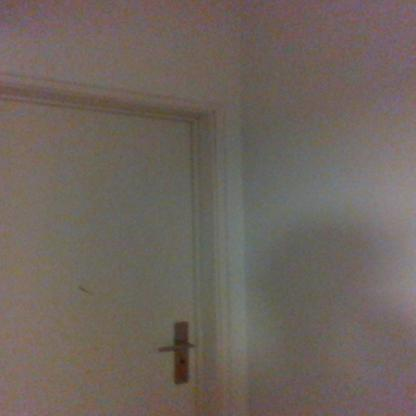door: (0, 95, 202, 416)
lever: (151, 341, 199, 357)
